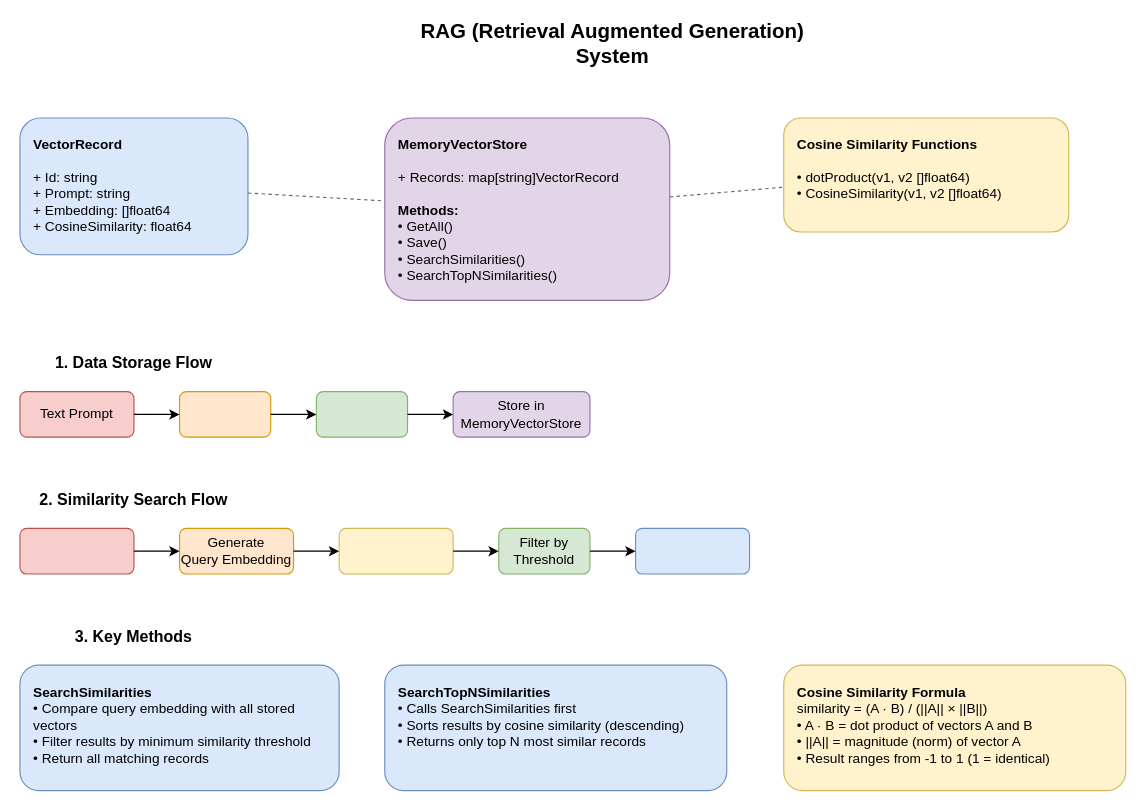
Image size: 1146x811. Some labels were removed from this diagram. Each missing label, with the centre of its shape:
Calculate Cosine Similarity: [395,550]
Generate Embedding: [224,413]
Query Prompt: [76,550]
Save as VectorRecord: [361,413]
Sort && Limit Top N Results: [692,550]
